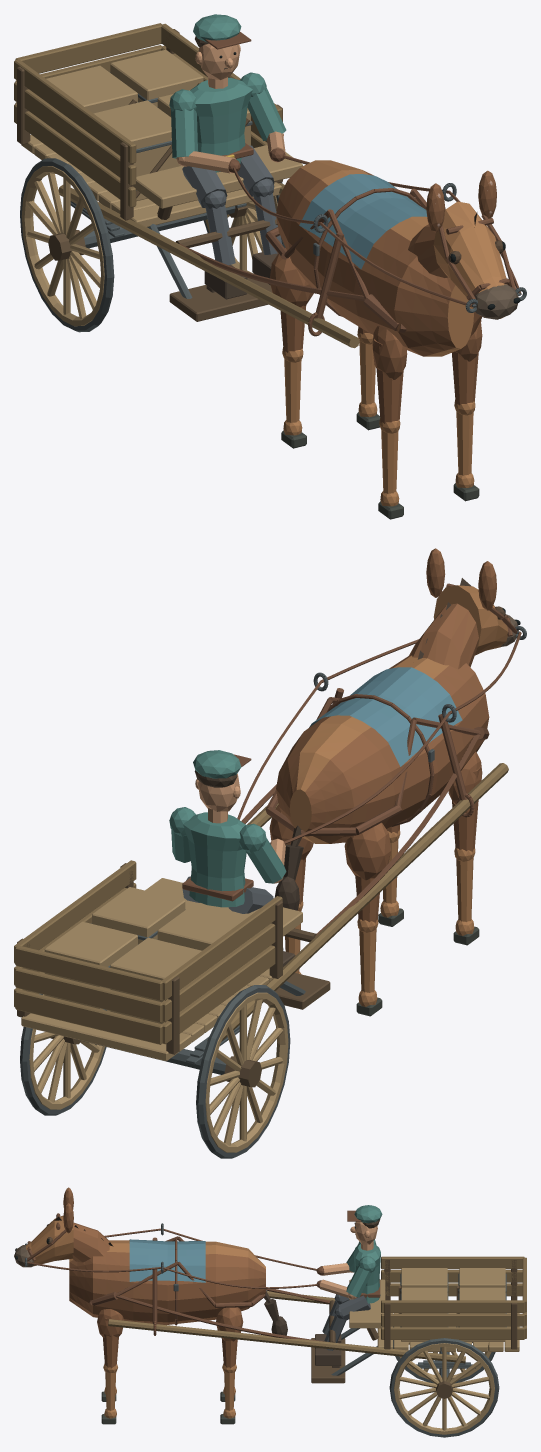
File: horse-cart.glb
The picture shows the model from 3 angles, top to bottom: view 1: azimuth 30°, elevation 25°; view 2: azimuth 150°, elevation 25°; view 3: azimuth 270°, elevation 25°; orthographic projection. The views are drawn at different scales.
Visible parts, largest first — view 1: MountedAssembly_mesh, Body_mesh, SeatedTorso_mesh, CartWheel_mesh, Head_mesh, SeatedPerson_mesh, Cargo_mesh, Cargo.003_mesh, UpperLeg_mesh, Cargo.002_mesh, UpperLeg.002_mesh, UpperLeg.001_mesh (+9 smaller); view 2: MountedAssembly_mesh, Body_mesh, SeatedTorso_mesh, CartWheel_mesh, Head_mesh, CartWheel.001_mesh, Cargo.001_mesh, Cargo.003_mesh, UpperLeg.002_mesh, Cargo_mesh, Cargo.002_mesh, UpperLeg_mesh (+9 smaller); view 3: MountedAssembly_mesh, Body_mesh, CartWheel.001_mesh, SeatedTorso_mesh, Head_mesh, SeatedPerson_mesh, UpperLeg.001_mesh, UpperLeg.003_mesh, Cargo_mesh, Cargo.002_mesh, Cargo.003_mesh, Cargo.001_mesh (+7 smaller).
Boxes of the visible parts, bbox=[...] form: MountedAssembly_mesh: bbox=[14, 23, 359, 348]; Body_mesh: bbox=[265, 160, 481, 356]; SeatedTorso_mesh: bbox=[169, 14, 286, 173]; CartWheel_mesh: bbox=[20, 158, 114, 332]; Head_mesh: bbox=[408, 201, 526, 319]; SeatedPerson_mesh: bbox=[182, 145, 282, 299]; Cargo_mesh: bbox=[93, 100, 180, 201]; Cargo.003_mesh: bbox=[110, 49, 203, 106]; UpperLeg_mesh: bbox=[372, 326, 407, 433]; Cargo.002_mesh: bbox=[46, 65, 138, 113]; UpperLeg.002_mesh: bbox=[270, 248, 313, 362]; UpperLeg.001_mesh: bbox=[452, 320, 482, 415]; MountedAssembly_mesh: bbox=[14, 763, 508, 1074]; Body_mesh: bbox=[265, 655, 489, 843]; SeatedTorso_mesh: bbox=[169, 750, 286, 907]; CartWheel_mesh: bbox=[196, 985, 290, 1158]; Head_mesh: bbox=[408, 583, 526, 669]; CartWheel.001_mesh: bbox=[20, 993, 106, 1115]; Cargo.001_mesh: bbox=[91, 887, 185, 944]; Cargo.003_mesh: bbox=[44, 921, 138, 1011]; UpperLeg.002_mesh: bbox=[344, 822, 391, 932]; Cargo_mesh: bbox=[157, 903, 249, 950]; Cargo.002_mesh: bbox=[110, 937, 201, 1023]; UpperLeg_mesh: bbox=[448, 751, 482, 861]; MountedAssembly_mesh: bbox=[108, 1256, 526, 1383]; Body_mesh: bbox=[69, 1223, 265, 1335]; CartWheel.001_mesh: bbox=[389, 1338, 499, 1437]; SeatedTorso_mesh: bbox=[316, 1205, 382, 1303]; Head_mesh: bbox=[14, 1212, 110, 1267]; SeatedPerson_mesh: bbox=[315, 1294, 370, 1367]; UpperLeg.001_mesh: bbox=[97, 1309, 123, 1372]; UpperLeg.003_mesh: bbox=[216, 1307, 243, 1372]; Cargo_mesh: bbox=[398, 1268, 448, 1313]; Cargo.002_mesh: bbox=[456, 1268, 506, 1313]; Cargo.003_mesh: bbox=[456, 1287, 506, 1341]; Cargo.001_mesh: bbox=[398, 1287, 448, 1341].
Bounding box in the file's own units: 1.34 × 2.26 × 4.86.
